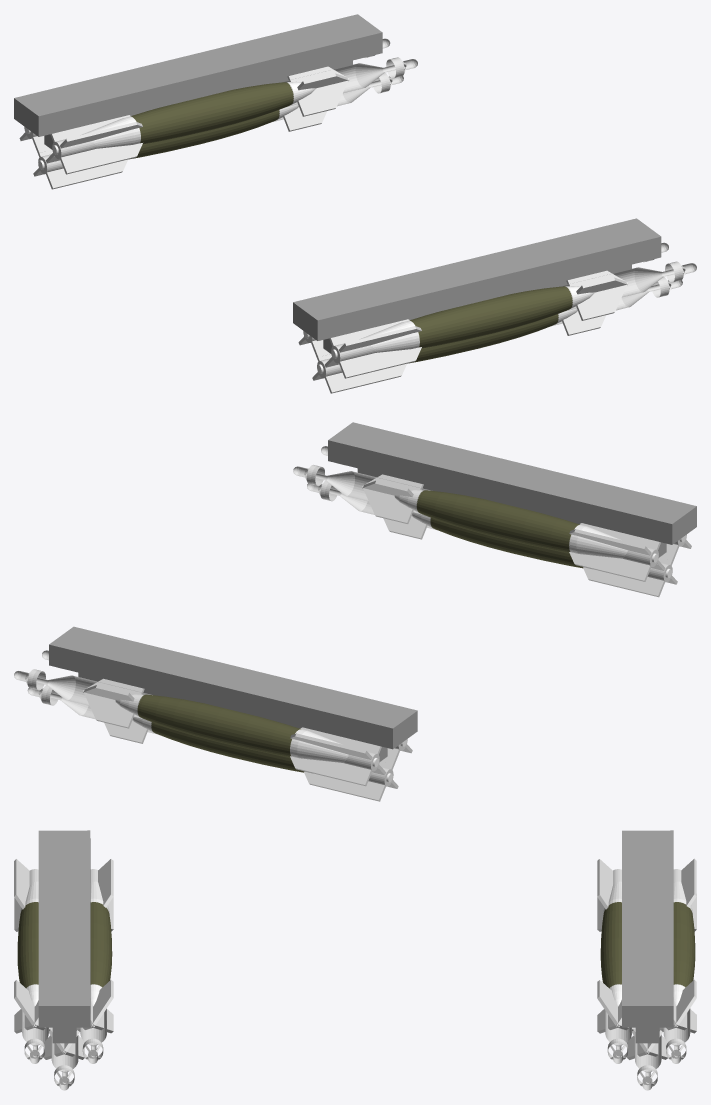
File: f15gbu1213.glb
3 views of the same model, one above another, from view 1: azimuth 30°, elevation 25°; view 2: azimuth 150°, elevation 25°; view 3: azimuth 270°, elevation 25° (orthographic). The views are drawn at different scales.
Visible parts, largest first — view 1: 立方体.010, 立方体.012, 円柱.006, 円柱.009, 円柱.003, 円柱.008; view 2: 立方体.010, 立方体.012, 円柱.007, 円柱.013, 円柱.008, 円柱.003; view 3: 立方体.012, 立方体.010, 円柱.009, 円柱.006, 円柱.007, 円柱.013, 円柱.003, 円柱.008.
Part boxes in pixels (<box>): 立方体.010: <box>14,14,382,149</box>; 立方体.012: <box>293,218,661,353</box>; 円柱.006: <box>47,57,417,174</box>; 円柱.009: <box>326,261,696,378</box>; 円柱.003: <box>33,73,403,189</box>; 円柱.008: <box>312,277,682,393</box>; 立方体.010: <box>49,626,417,761</box>; 立方体.012: <box>328,422,696,557</box>; 円柱.007: <box>14,669,384,786</box>; 円柱.013: <box>293,464,663,581</box>; 円柱.008: <box>307,480,677,597</box>; 円柱.003: <box>27,685,398,801</box>; 立方体.012: <box>38,830,90,1043</box>; 立方体.010: <box>622,830,673,1043</box>; 円柱.009: <box>14,859,52,1063</box>; 円柱.006: <box>597,859,635,1063</box>; 円柱.007: <box>659,858,696,1063</box>; 円柱.013: <box>76,859,113,1063</box>; 円柱.003: <box>627,1030,668,1090</box>; 円柱.008: <box>43,1030,84,1090</box>.
Size of the model in its own units: 4.14 by 0.8421 by 6.21.
3 materials, 1 textured.
